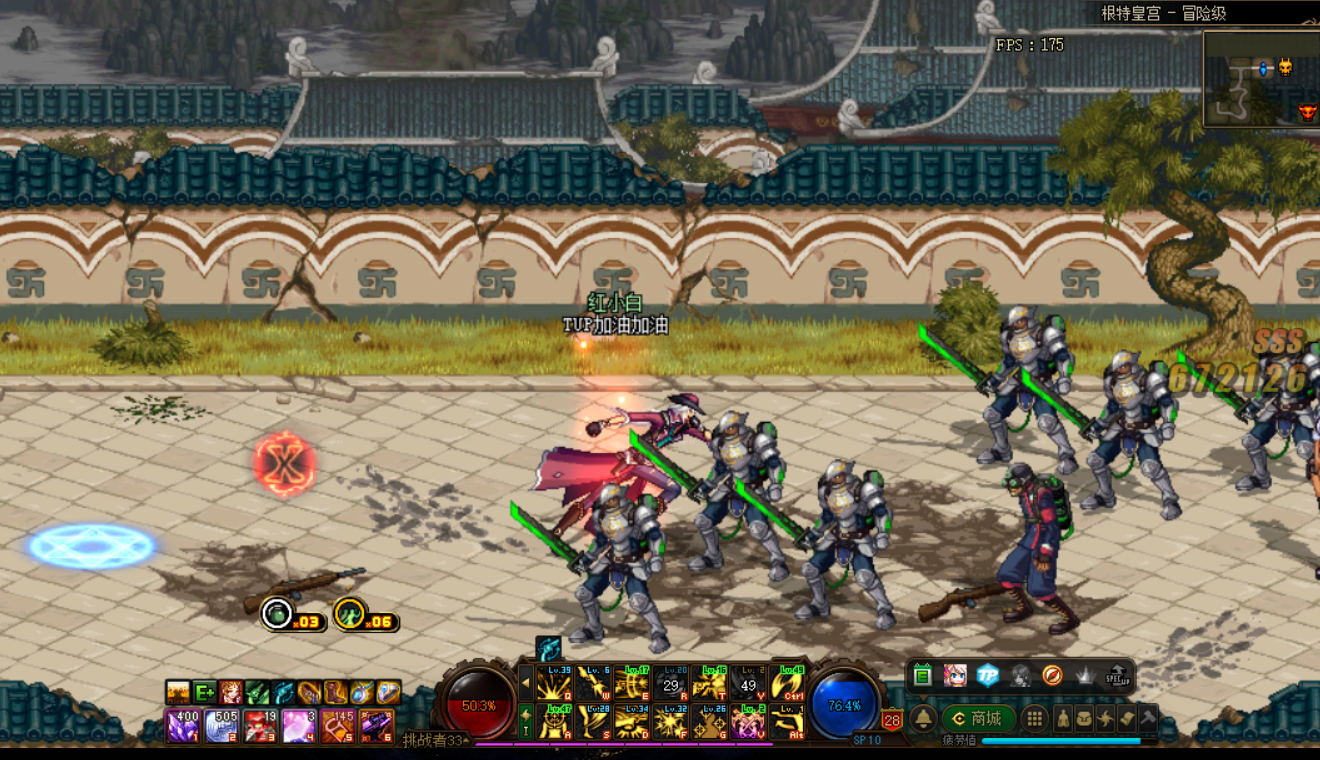monster: (627, 406, 801, 584), (908, 303, 1082, 476), (508, 482, 679, 653), (733, 462, 901, 635), (1029, 352, 1192, 524), (1182, 338, 1320, 502), (987, 462, 1083, 638)
warrior: (525, 376, 715, 534)
